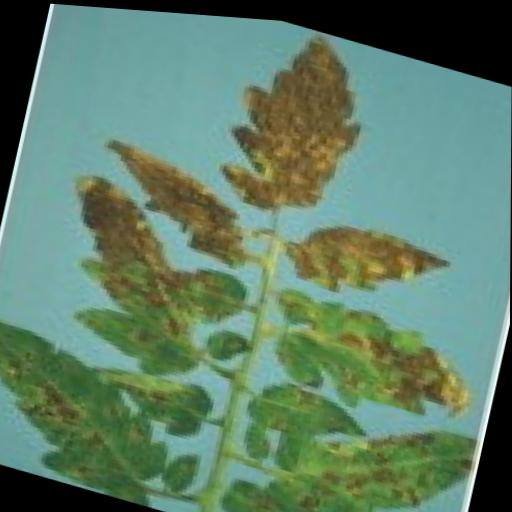Septoria: (0, 315, 184, 508), (256, 279, 483, 432), (257, 370, 478, 512), (65, 288, 205, 385), (239, 367, 378, 451)
